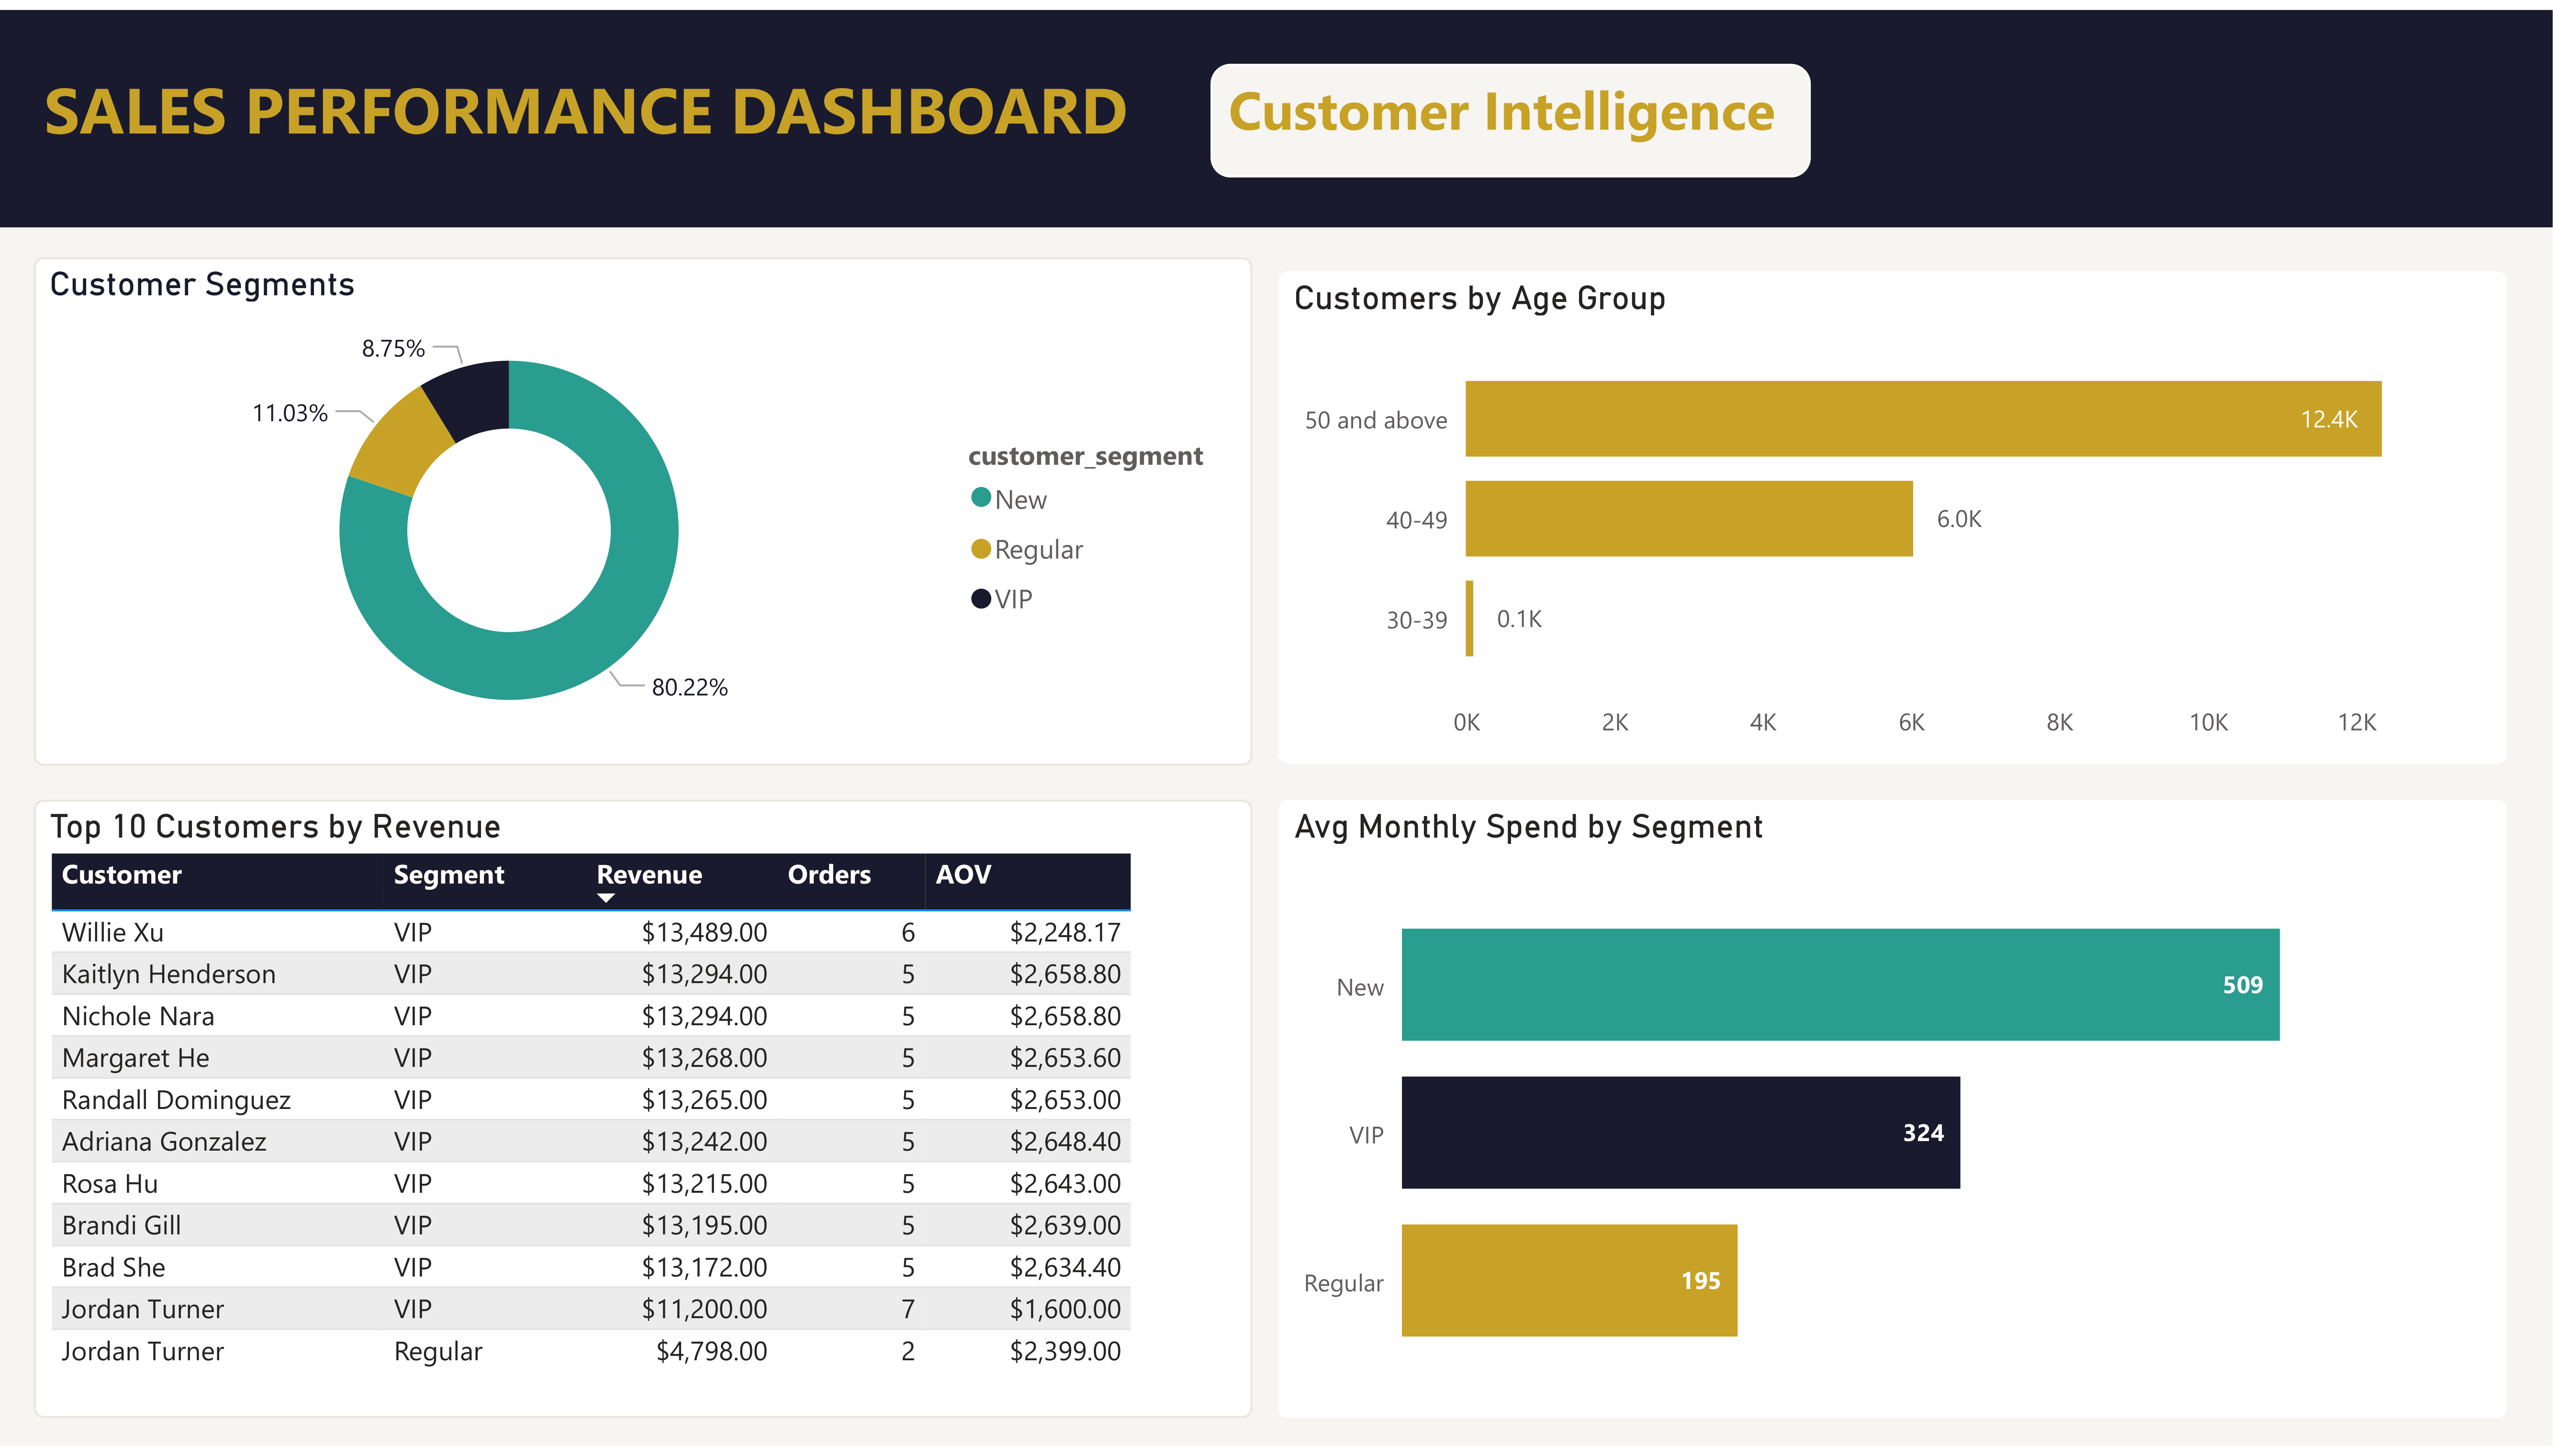

The page's visual inventory and layout, read from the dashboard file:
{"tool":"powerbi","page":{"name":"Customer Intelligence","canvas":[1280,720],"ordinal":1},"visuals":[{"type":"shape","box":[0,0,1280,109.3],"z":0},{"type":"donutChart","title":"Customer Segments","fields":{"Category":["report_customers 1.customer_segment"],"Y":["CountNonNull(report_customers 1.customer_key)"]},"box":[17.1,123.6,610.5,254.9],"z":1000},{"type":"clusteredBarChart","title":"Customers by Age Group","fields":{"Y":["CountNonNull(report_customers 1.customer_key)"],"Category":["report_customers 1.age_group"]},"box":[641,131.2,616.2,247.3],"z":2000},{"type":"tableEx","title":"Top 10 Customers by Revenue","fields":{"Values":["report_customers 1.customer_name","report_customers 1.customer_segment","Sum(report_customers 1.total_sales)","Sum(report_customers 1.total_orders)","Avg(report_customers 1.avg_order_value)"]},"box":[17.1,395.6,610.5,310],"z":3000},{"type":"clusteredBarChart","title":"Avg Monthly Spend by Segment","fields":{"Category":["report_customers 1.customer_segment"],"Y":["Avg(report_customers 1.avg_monthly_spend)"]},"box":[641,395.6,616.2,310],"z":3001},{"type":"textbox","title":"Customer Intelligence","box":[606.7,26.6,300.5,57.1],"z":3002},{"type":"textbox","title":"SALES PERFORMANCE DASHBOARD","box":[17.1,26.6,574.4,57.1],"z":3003}]}

Visuals, with their boxes in screenshot pixels (x1, y1, x2, y2), scaled from the page's 1280x720 canvas onto the 2553x1456 screenshot:
shape: bbox=[0, 0, 2553, 221]
"Customer Segments" donutChart: bbox=[34, 250, 1252, 765]
"Customers by Age Group" clusteredBarChart: bbox=[1278, 265, 2508, 765]
"Top 10 Customers by Revenue" tableEx: bbox=[34, 800, 1252, 1427]
"Avg Monthly Spend by Segment" clusteredBarChart: bbox=[1278, 800, 2508, 1427]
"Customer Intelligence" textbox: bbox=[1210, 54, 1809, 169]
"SALES PERFORMANCE DASHBOARD" textbox: bbox=[34, 54, 1180, 169]
